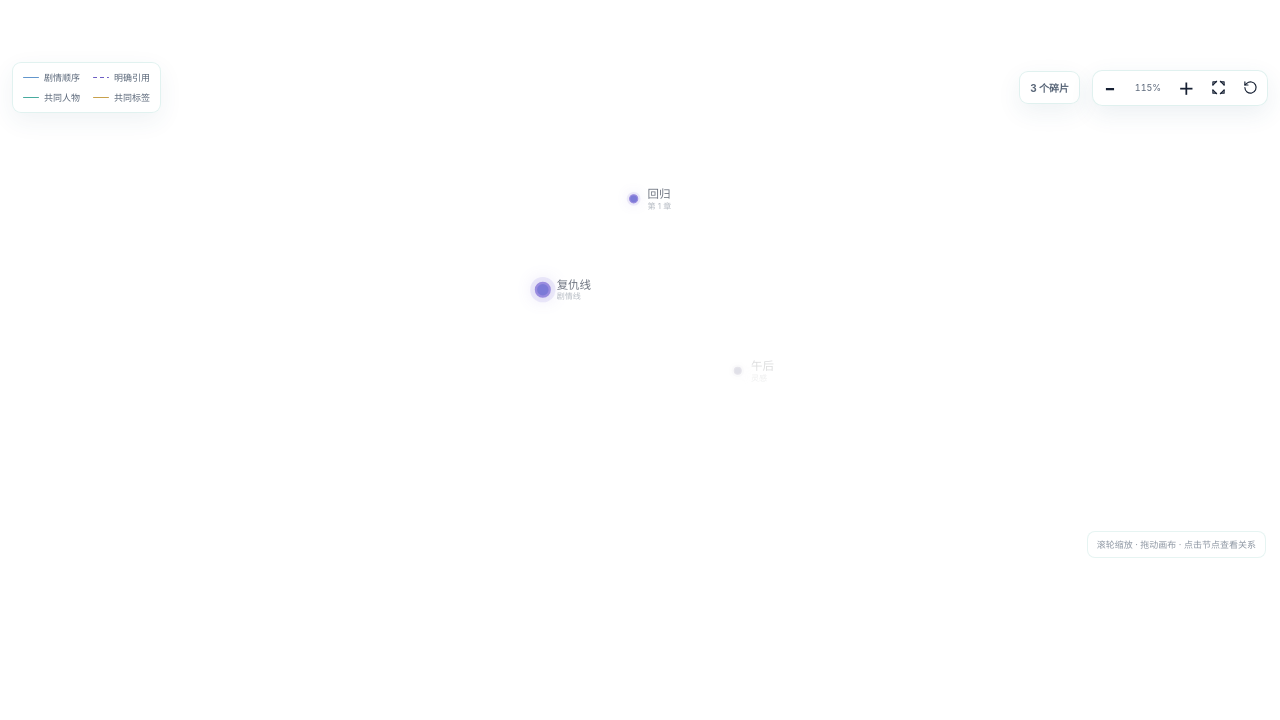
FragmentBoard › resets only the local layout after confirmation
This screenshot has width=1280, height=720.
Press the mouse on the button with aria-label "阅读午后" at (737, 371), box [712,346,762,396]
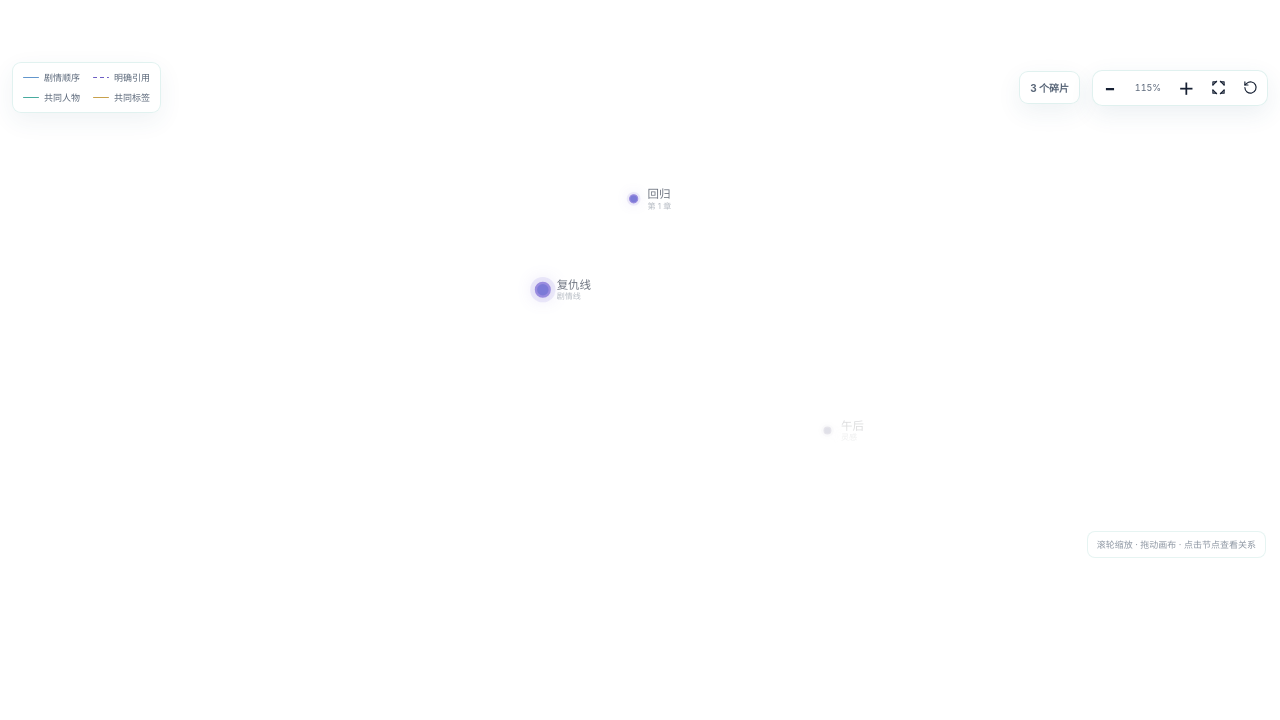
Click the button named "重新整理画布" at (1250, 88), box [1235,72,1265,102]
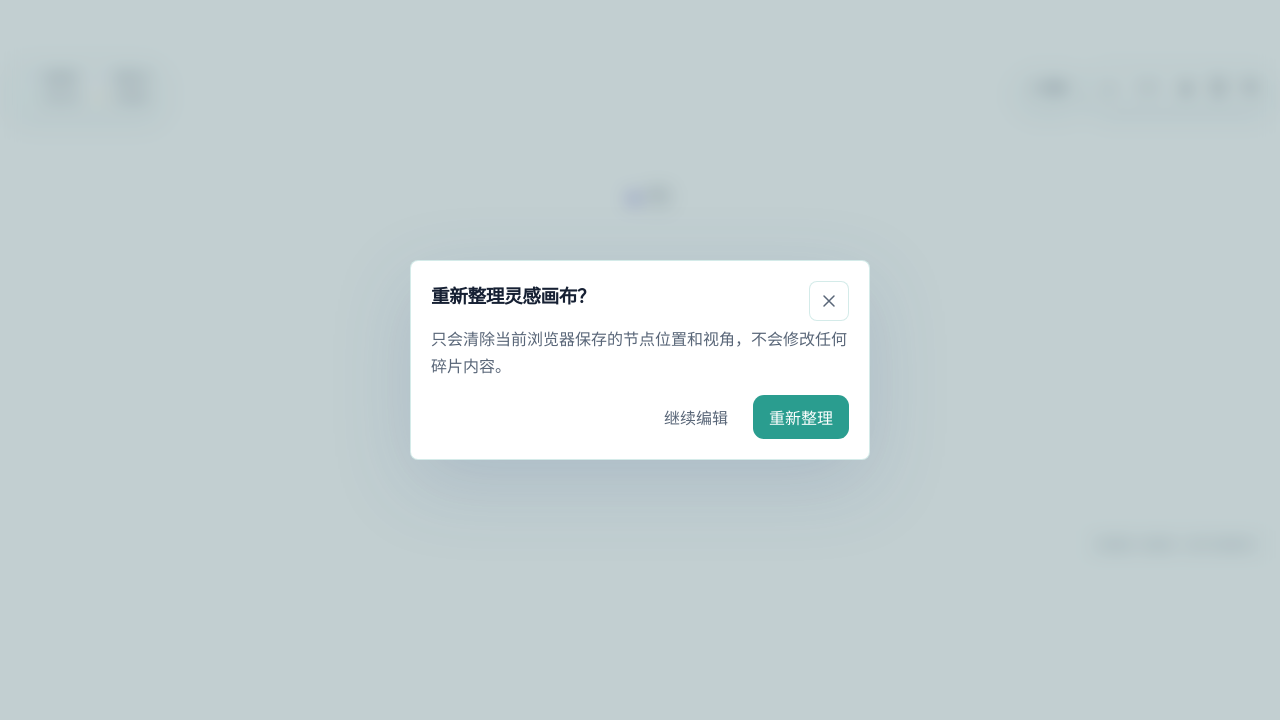
Click the button "重新整理" at (801, 417), box [753,395,849,439]
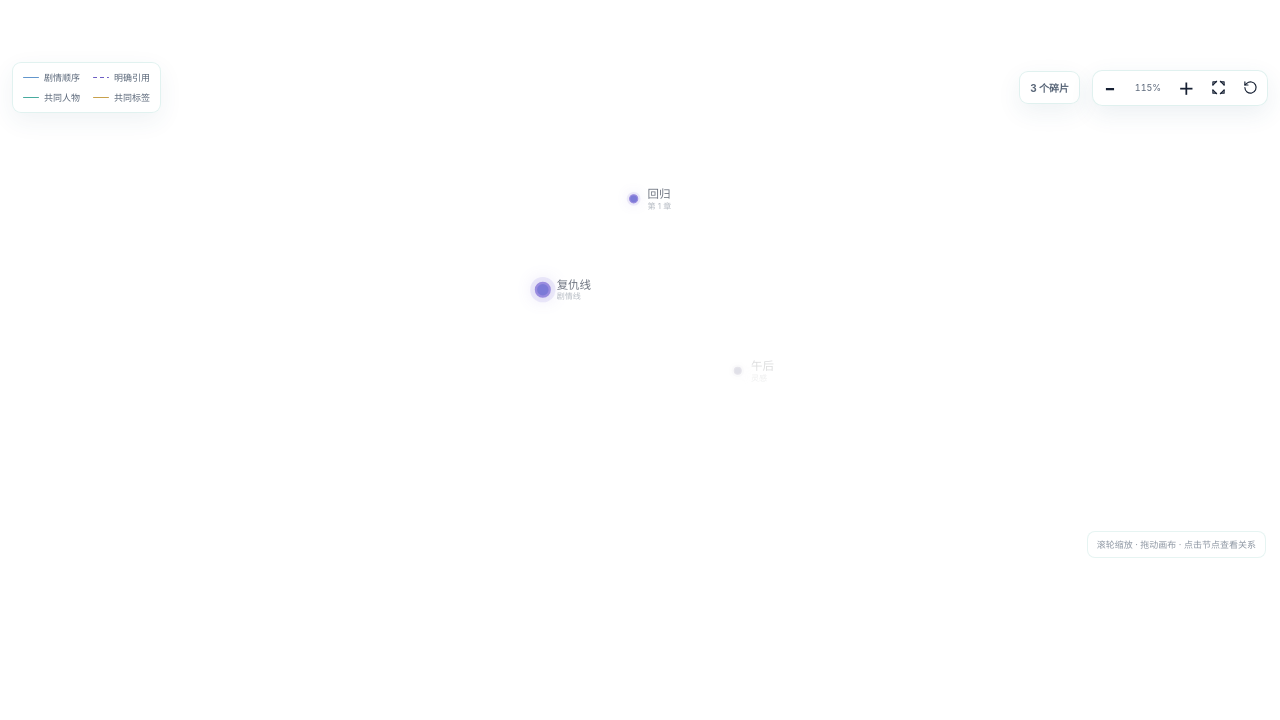
expect the dialog is gone: met
